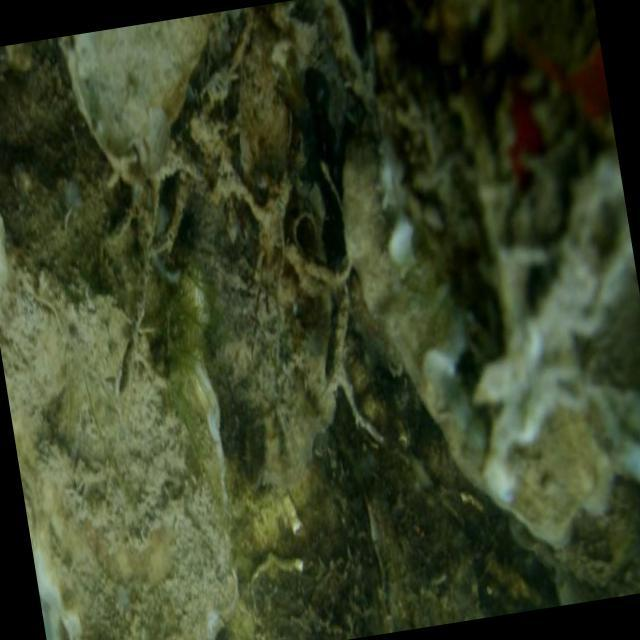Oyster- Indeterminate: (0, 40, 238, 640), (340, 141, 640, 542), (150, 11, 332, 485), (63, 11, 224, 171)
